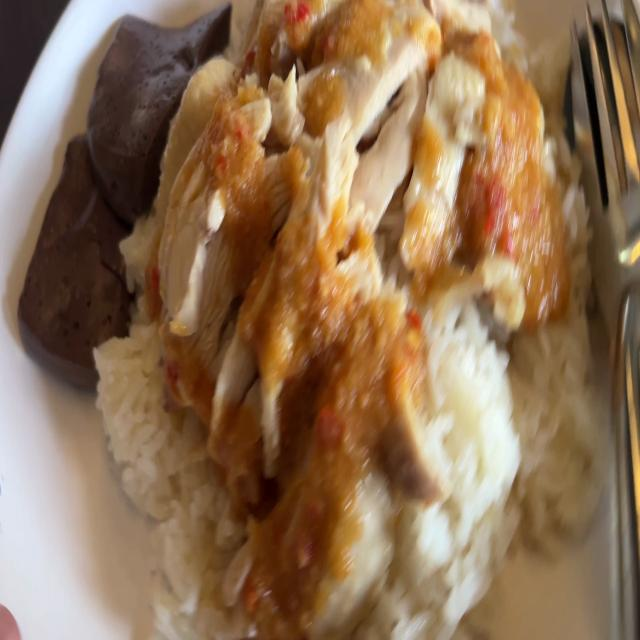boiled_chicken: (163, 0, 543, 477)
boiled_chicken_blood_jelly: (19, 128, 132, 388), (84, 8, 212, 199)
chicken_rice: (22, 0, 603, 640)
